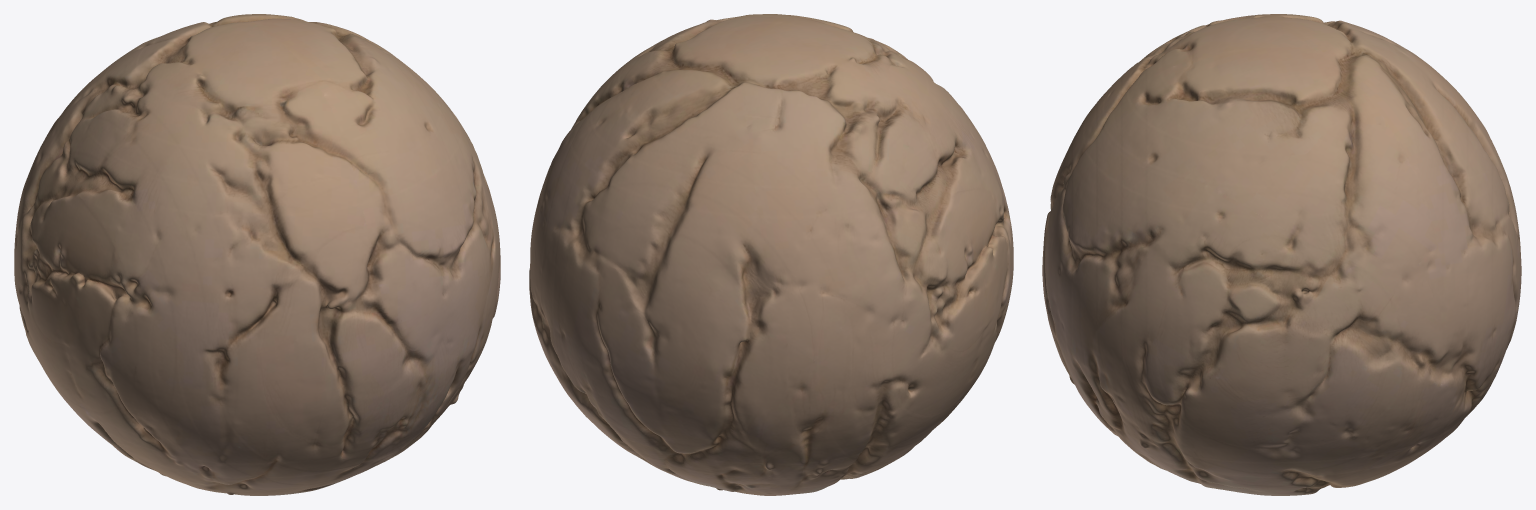
File: detailed_realistic_model_solid_13.glb
3 views of the same model, side by side, from view 1: azimuth 30°, elevation 25°; view 2: azimuth 150°, elevation 25°; view 3: azimuth 270°, elevation 25° (orthographic).
Visible parts, largest first — view 1: tripo_node_400eda58-875a-4004-a804-d59a3f73e194; view 2: tripo_node_400eda58-875a-4004-a804-d59a3f73e194; view 3: tripo_node_400eda58-875a-4004-a804-d59a3f73e194.
Part boxes in pixels (x1,y1,x2,y2): tripo_node_400eda58-875a-4004-a804-d59a3f73e194: (14, 14, 500, 495); tripo_node_400eda58-875a-4004-a804-d59a3f73e194: (529, 14, 1013, 495); tripo_node_400eda58-875a-4004-a804-d59a3f73e194: (1042, 14, 1521, 495).
Bounding box in the file's own units: 0.9979 × 0.999 × 1.
Materials: 1 (1 with a texture image).
